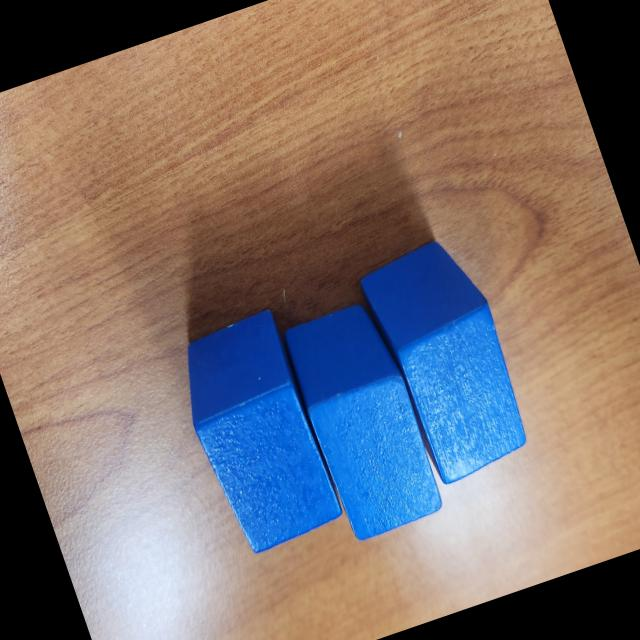blue: (354, 228, 540, 490), (164, 306, 351, 562), (278, 296, 450, 544)
